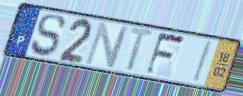2: (58, 17, 95, 66)
F: (143, 31, 188, 77)
I: (191, 40, 215, 85)
N: (83, 21, 131, 69)
S: (30, 14, 67, 58)
T: (124, 25, 157, 74)
